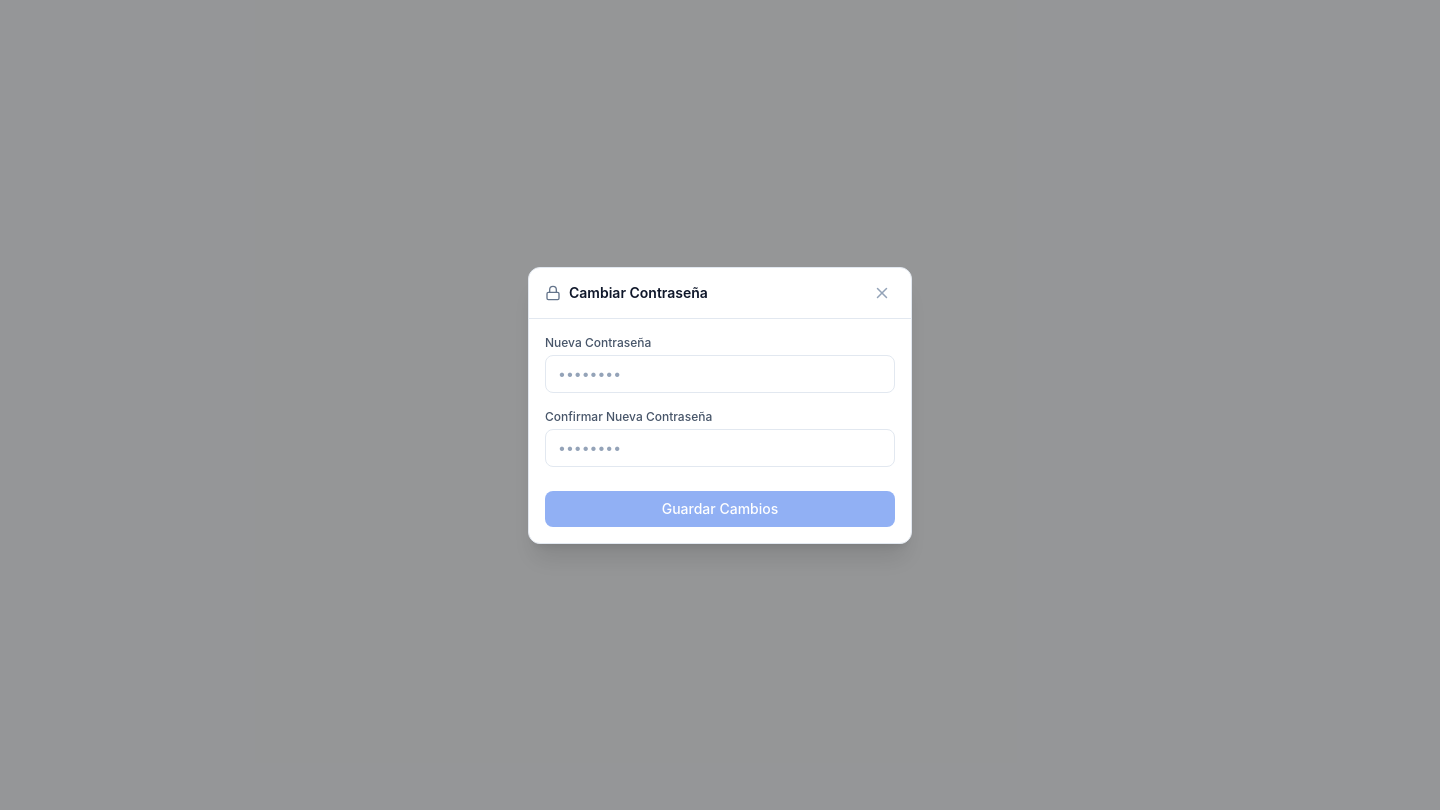
Scenario: ChangePasswordModal › should show error when password is too short
Type "123" into the 1st password field with placeholder "••••••••" at x=720, y=374, box [545, 354, 895, 392]
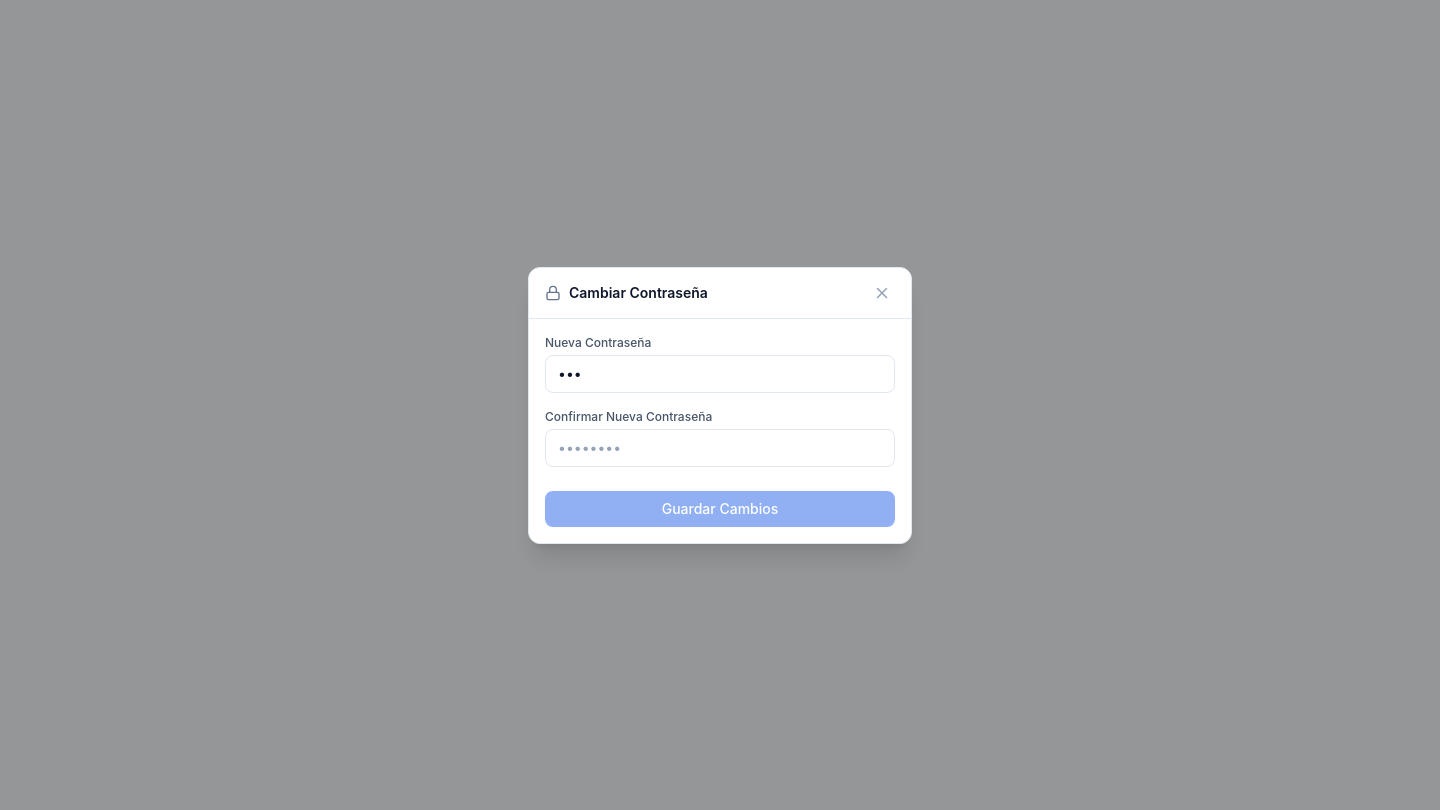
Type "123" into the password field with placeholder "••••••••" at x=720, y=448, box [545, 428, 895, 466]
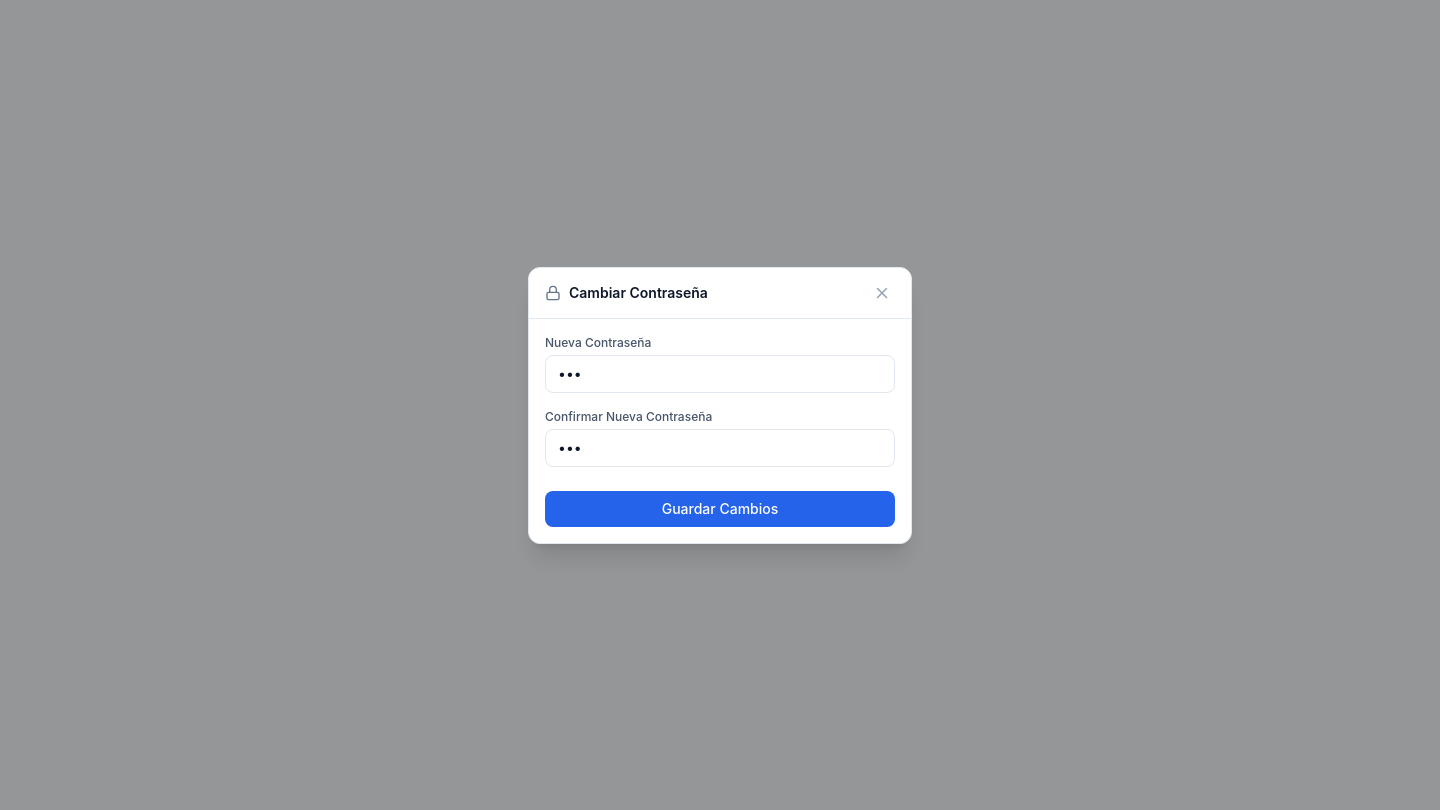
Click the button "Guardar Cambios" at x=720, y=508, box [545, 490, 895, 526]
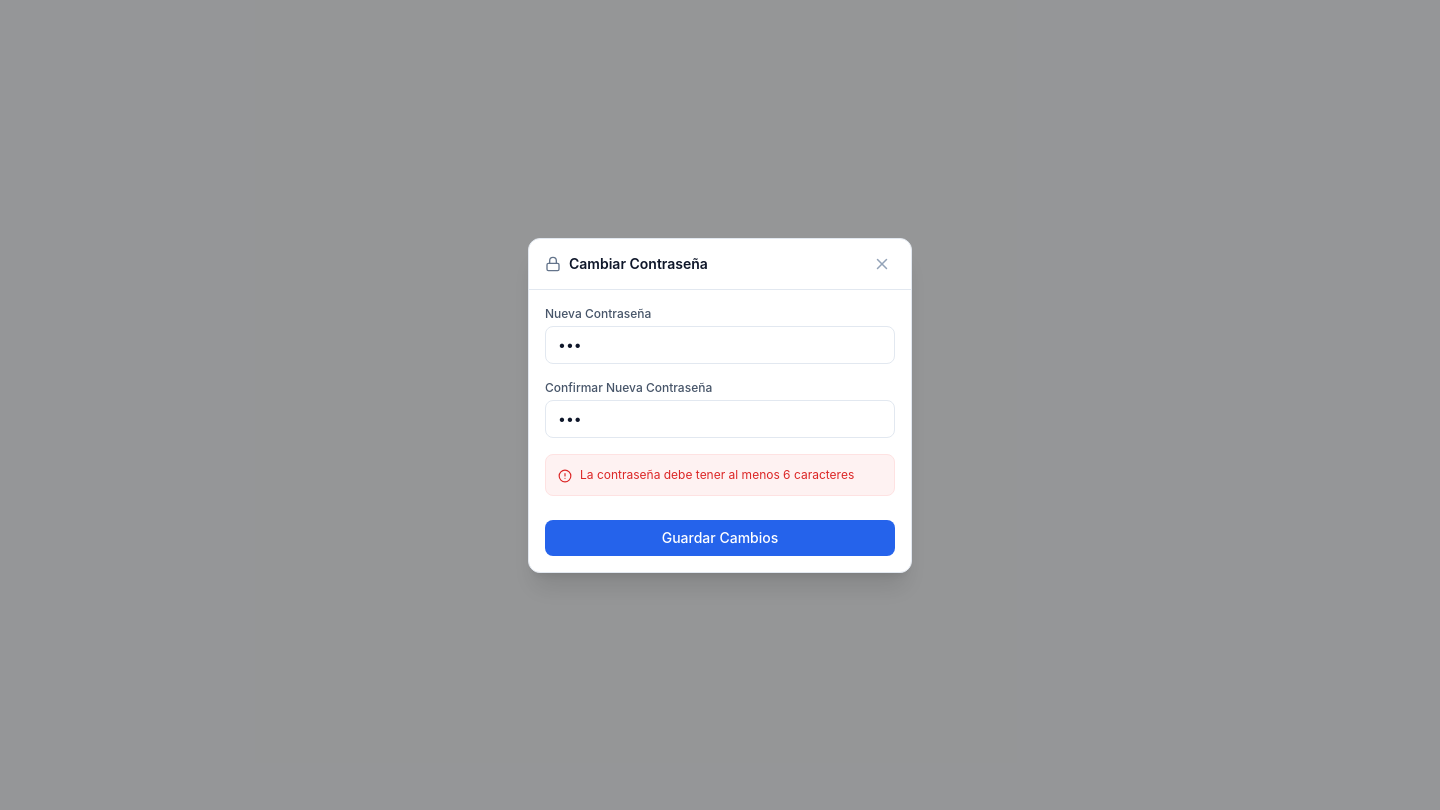
Check: the text "La contraseña debe tener al menos 6 caracteres" is shown, box [580, 466, 854, 482]
